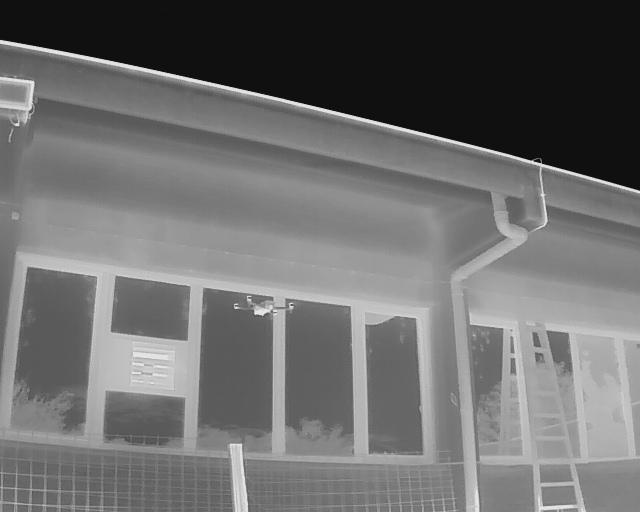drone: (217, 288, 307, 324)
